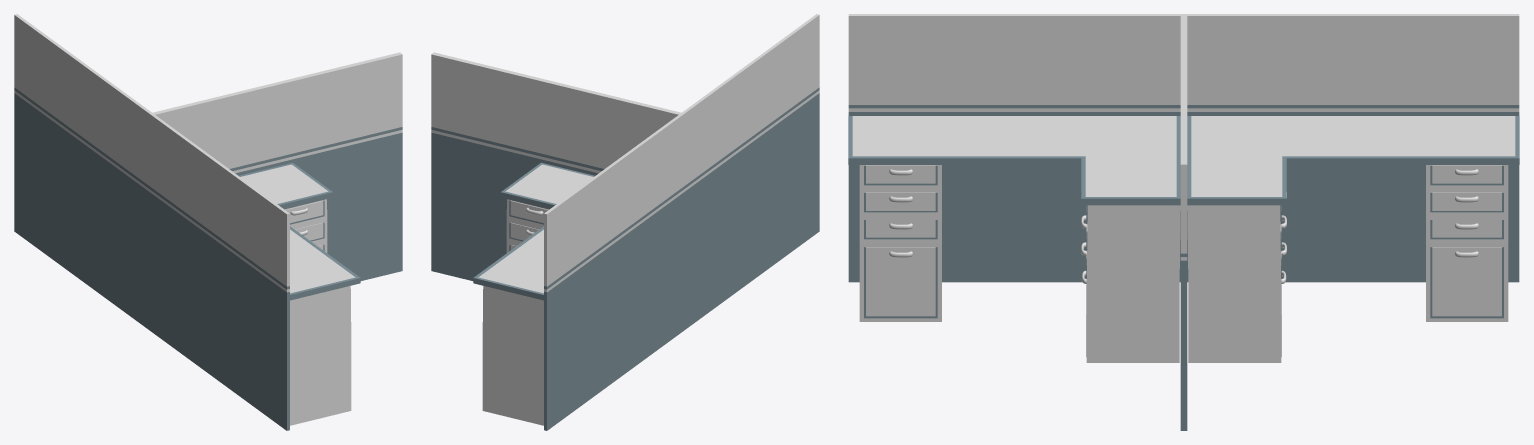
The model's file is desk.fbx.
The picture shows the model from 3 angles, left to right: view 1: azimuth 30°, elevation 25°; view 2: azimuth 150°, elevation 25°; view 3: azimuth 270°, elevation 25°; orthographic projection. The views are drawn at different scales.
Parts seen in each view (by area): view 1: Cube.004; view 2: Cube.004; view 3: Cube.004.
Boxes of the visible parts, bbox=[...] form: Cube.004: bbox=[14, 14, 402, 430]; Cube.004: bbox=[431, 14, 819, 430]; Cube.004: bbox=[848, 14, 1519, 430].
Size of the model in its own units: 504 by 416 by 950.
